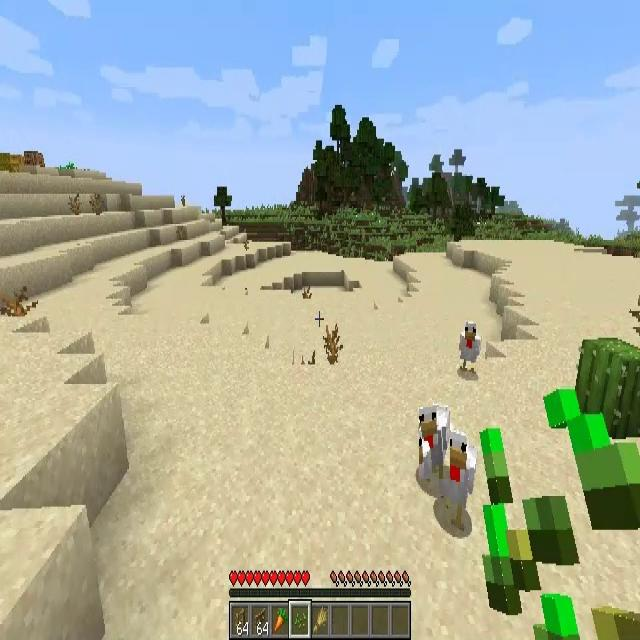duck: (437, 434, 476, 524), (419, 407, 450, 479), (457, 321, 482, 373)
